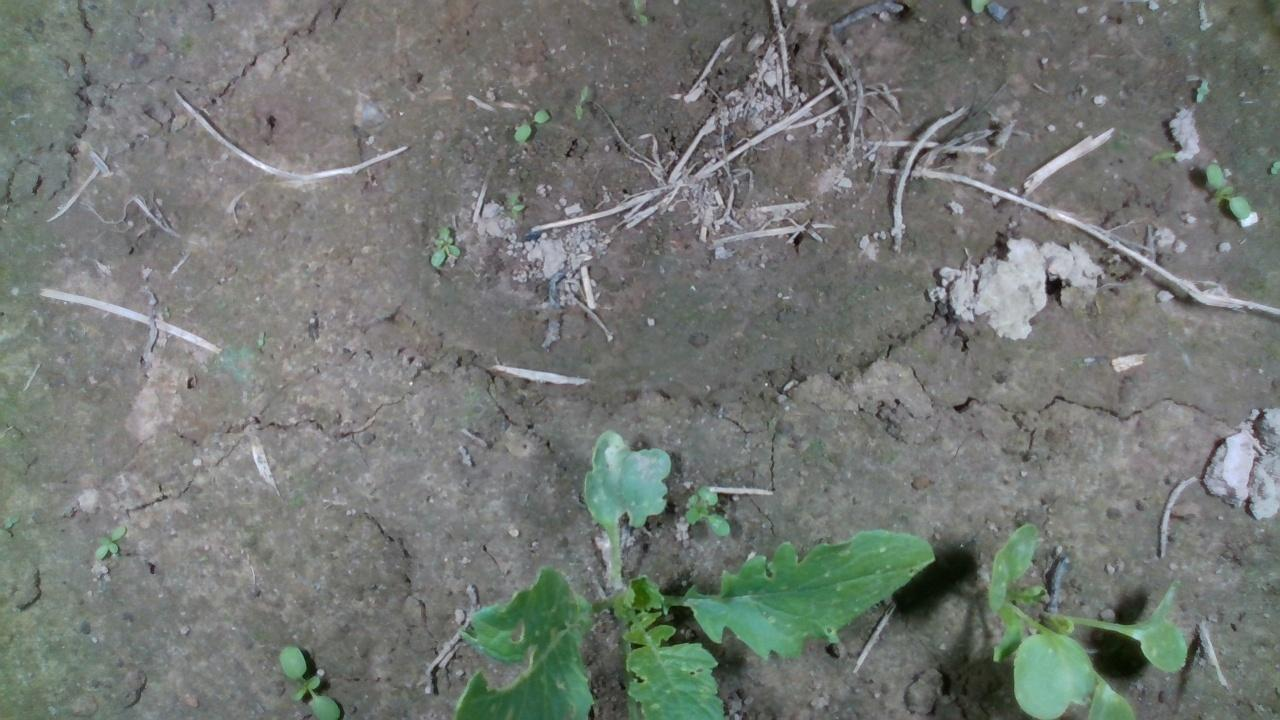weed: (1204, 161, 1250, 220), (683, 483, 730, 537), (512, 106, 551, 142), (90, 523, 127, 560), (573, 81, 588, 118)
